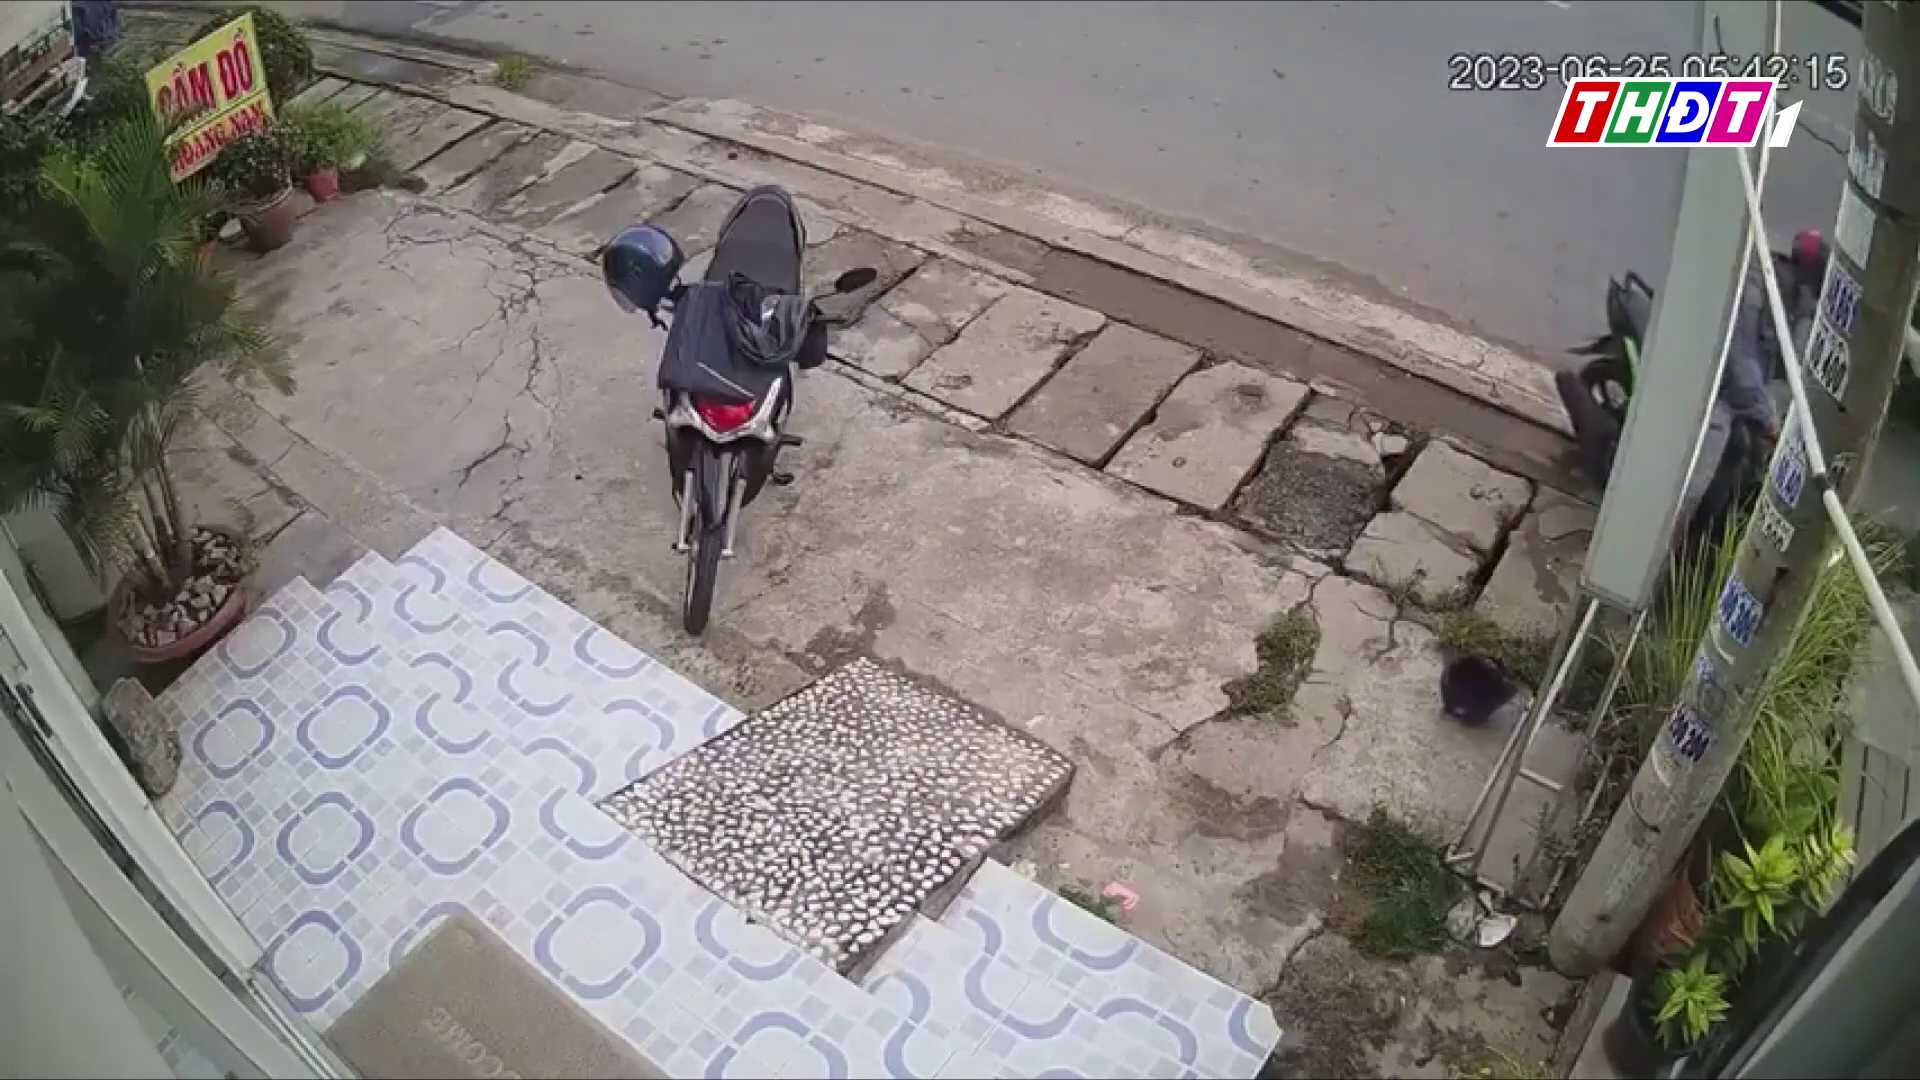Motorcycle: (600, 181, 849, 637)
